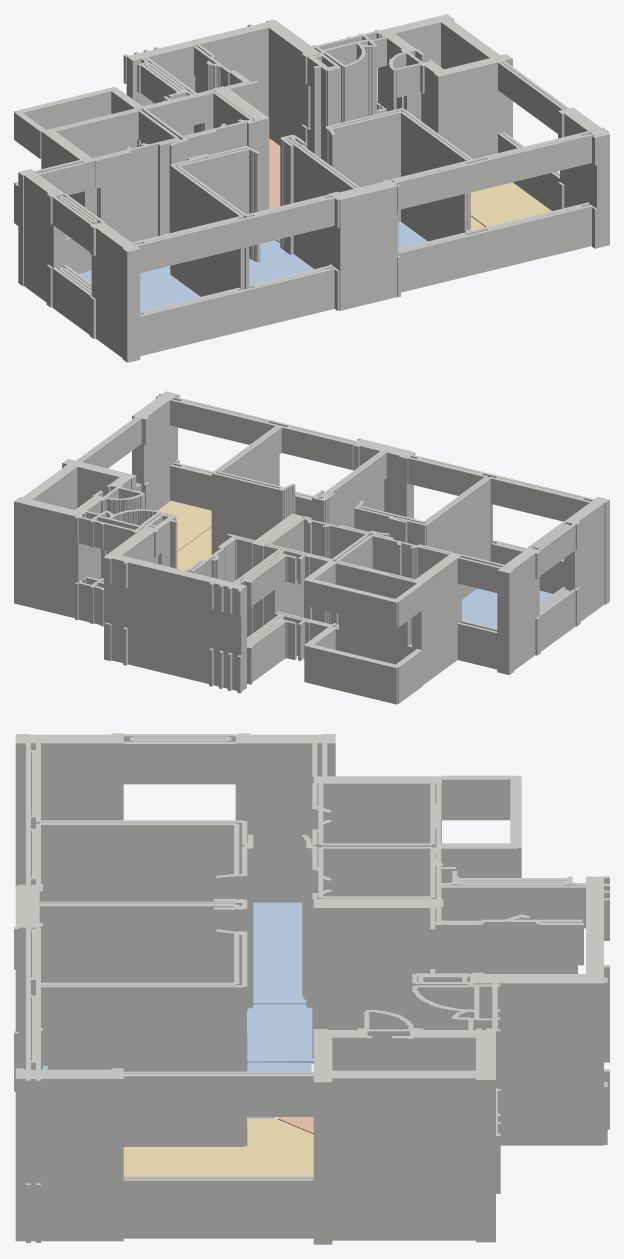
The picture shows the model from 3 angles, top to bottom: view 1: azimuth 30°, elevation 25°; view 2: azimuth 150°, elevation 25°; view 3: azimuth 270°, elevation 25°; orthographic projection. The views are drawn at different scales.
Parts seen in each view (by area): view 1: walls, room:living:7, room:bedroom:8, room:bedroom:4, room:kitchen:1; view 2: walls, room:living:7, room:bedroom:8, room:living:6; view 3: walls, room:living:6, room:bedroom:8, room:bedroom:4, room:bedroom:5.
Boxes of the visible parts, bbox=[...] form: walls: bbox=[14, 14, 609, 362]; room:living:7: bbox=[471, 182, 551, 227]; room:bedroom:8: bbox=[79, 266, 200, 311]; room:bedroom:4: bbox=[249, 240, 313, 284]; room:kitchen:1: bbox=[269, 138, 280, 208]; walls: bbox=[14, 391, 609, 704]; room:living:7: bbox=[158, 500, 211, 551]; room:bedroom:8: bbox=[462, 588, 552, 628]; room:living:6: bbox=[177, 527, 211, 570]; walls: bbox=[14, 733, 609, 1244]; room:living:6: bbox=[123, 1118, 313, 1175]; room:bedroom:8: bbox=[253, 902, 306, 1004]; room:bedroom:4: bbox=[247, 1004, 313, 1063]; room:bedroom:5: bbox=[43, 1062, 311, 1118].
Bounding box in the file's own units: 12.91 × 2.8 × 9.31.
